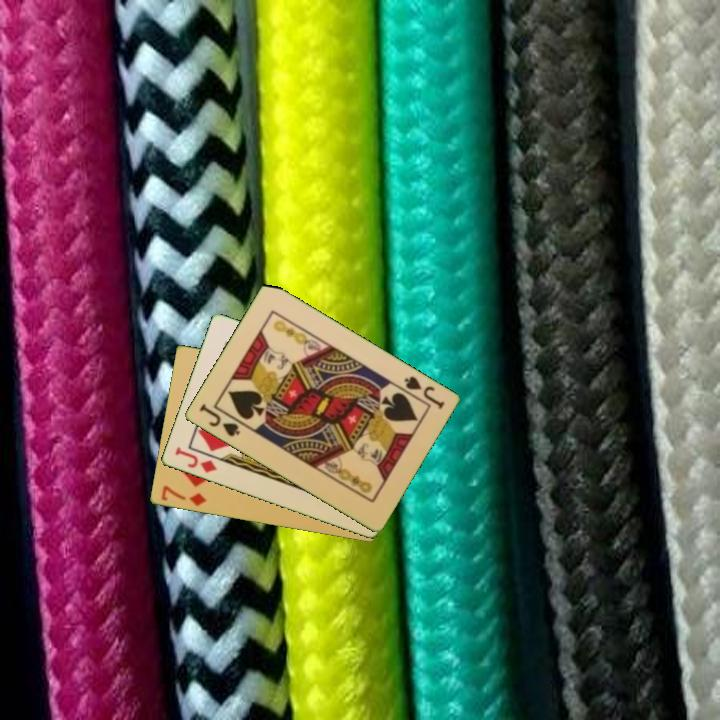7d: (157, 482, 209, 509)
Jd: (171, 443, 220, 476)
Js: (395, 372, 447, 413), (195, 400, 243, 440)
